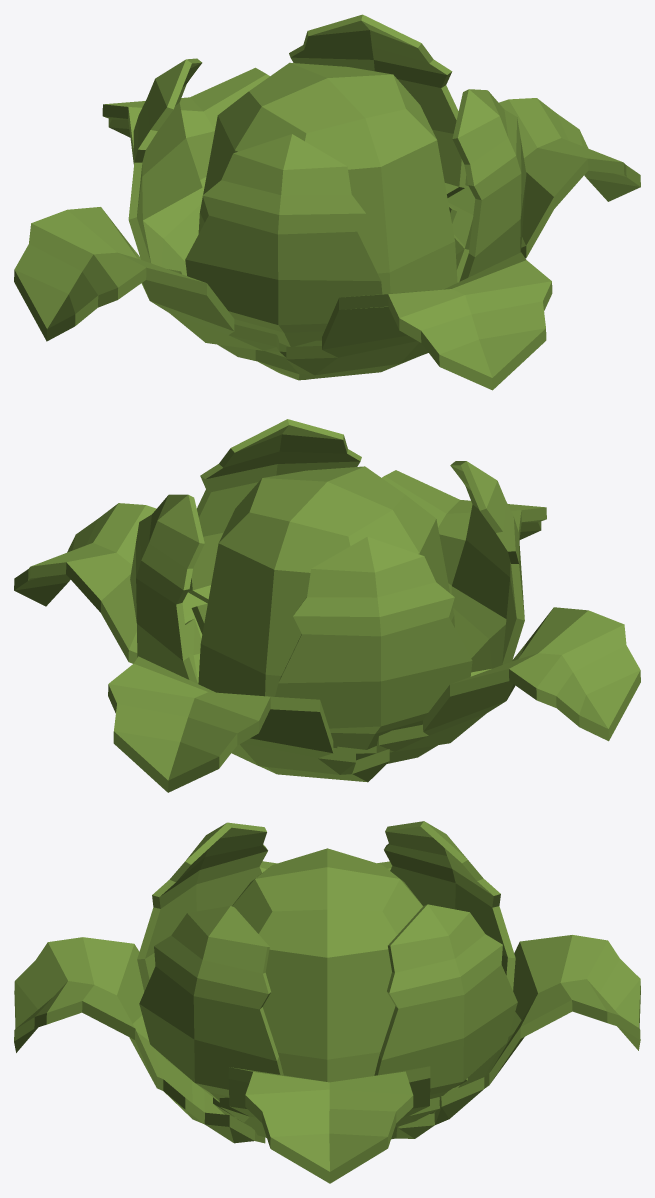
File: crop-cell-lettuce-ready.gltf
3 views of the same model, one above another, from view 1: azimuth 30°, elevation 25°; view 2: azimuth 150°, elevation 25°; view 3: azimuth 270°, elevation 25° (orthographic). The views are drawn at different scales.
Visible parts, largest first — view 1: crop-cell-lettuce-ready; view 2: crop-cell-lettuce-ready; view 3: crop-cell-lettuce-ready.
Boxes of the visible parts, left/top/right/bottom form: crop-cell-lettuce-ready: left=14, top=14, right=640, bottom=390; crop-cell-lettuce-ready: left=14, top=419, right=640, bottom=792; crop-cell-lettuce-ready: left=14, top=821, right=640, bottom=1183.
Size of the model in its own units: 0.5 by 0.2271 by 0.5.
